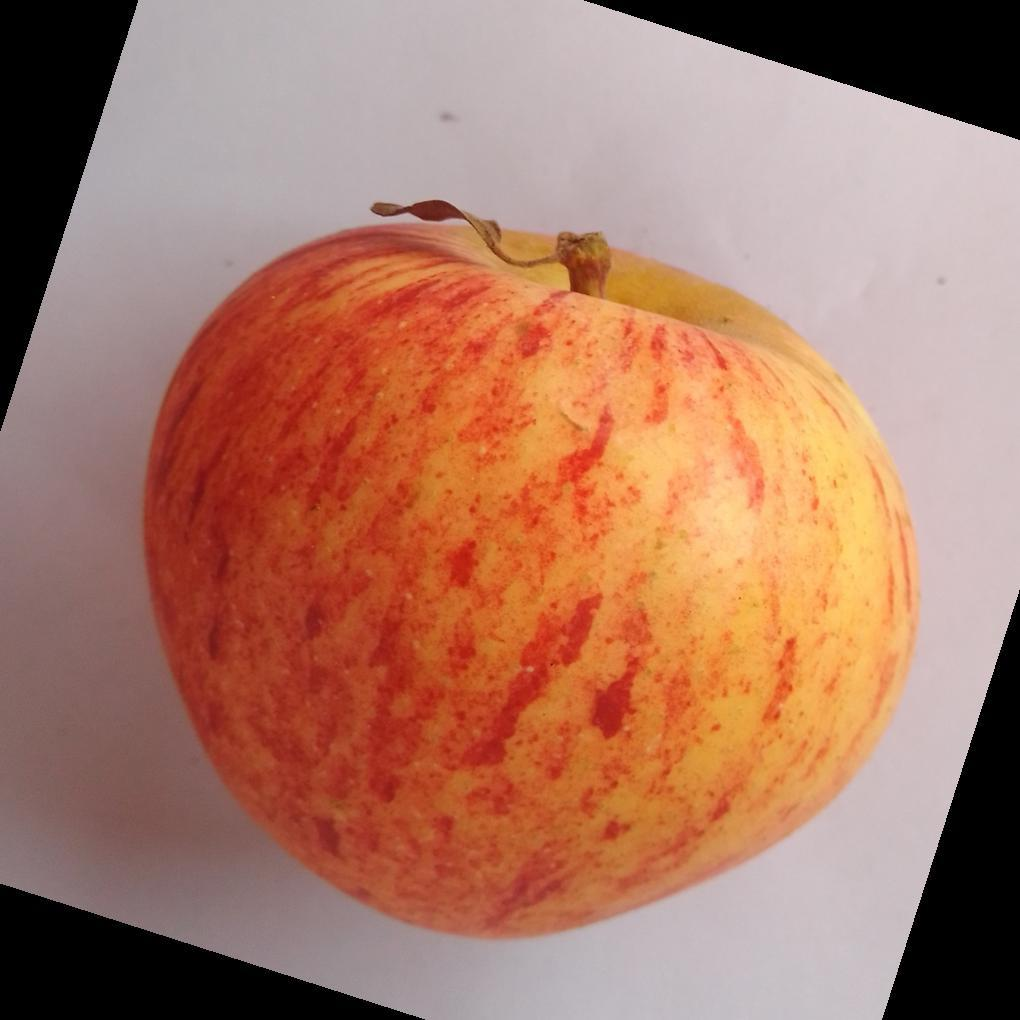FreshGuava: (138, 207, 922, 944)
